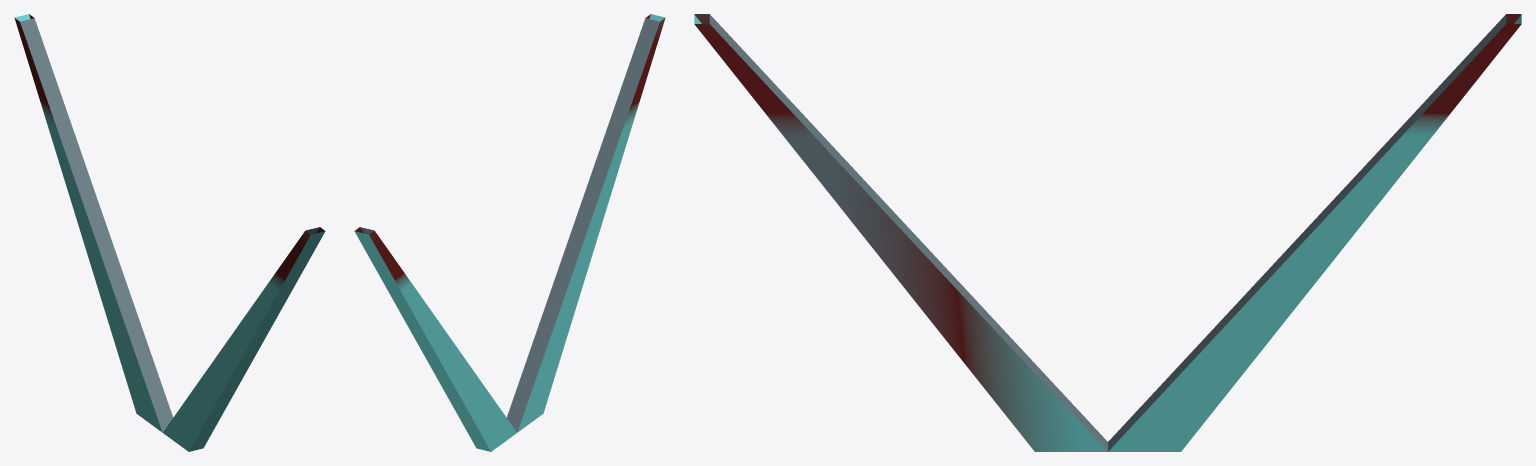
Rendered from SM_Collons_v03.FBX.
3 renders of one model, left to right at view 1: azimuth 30°, elevation 25°; view 2: azimuth 150°, elevation 25°; view 3: azimuth 270°, elevation 25°, orthographic. The views are drawn at different scales.
Parts seen in each view (by area): view 1: SM_Collons_v03; view 2: SM_Collons_v03; view 3: SM_Collons_v03.
Part boxes in pixels (left/top/right/bottom): SM_Collons_v03: left=14, top=14, right=325, bottom=451; SM_Collons_v03: left=354, top=14, right=665, bottom=451; SM_Collons_v03: left=694, top=14, right=1521, bottom=451.
Size of the model in its own units: 0.2 by 3.99 by 7.
